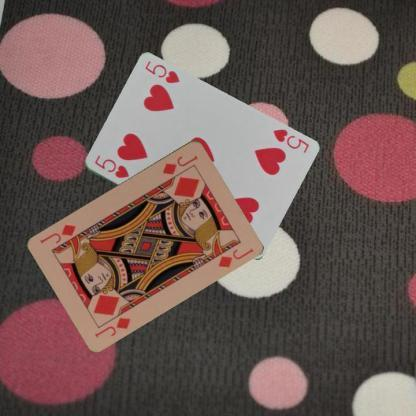5h: (270, 126, 310, 154), (91, 152, 130, 180)
Jd: (92, 314, 132, 338), (160, 152, 199, 176)
